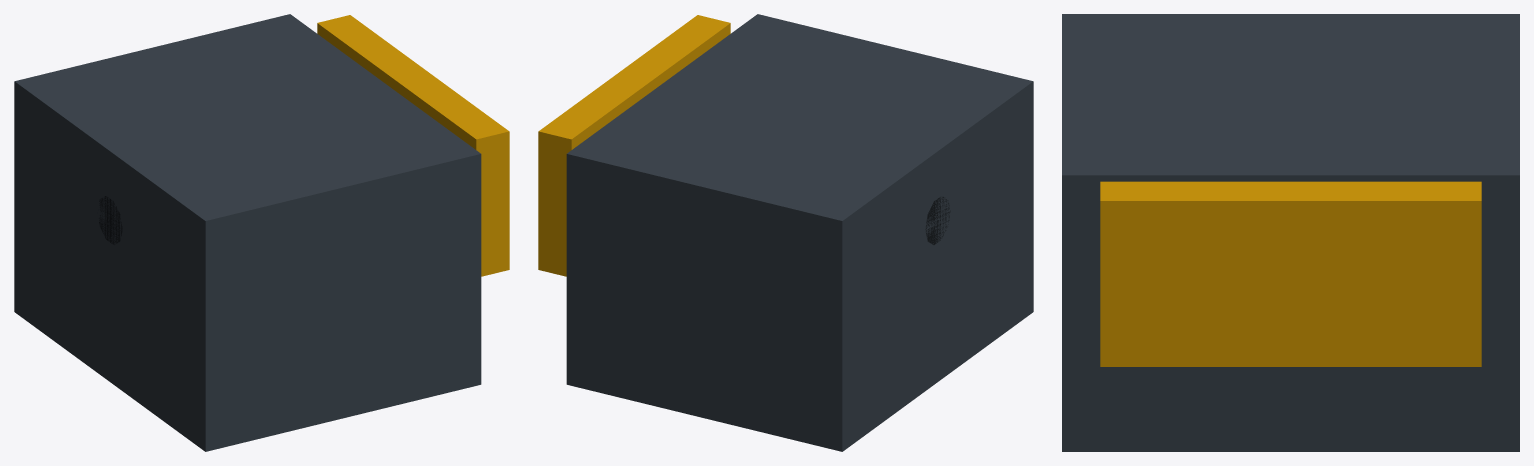
The picture shows the model from 3 angles, left to right: view 1: azimuth 30°, elevation 25°; view 2: azimuth 150°, elevation 25°; view 3: azimuth 270°, elevation 25°; orthographic projection. The views are drawn at different scales.
Parts seen in each view (by area): view 1: body, pusher, piston; view 2: body, pusher, piston; view 3: body, pusher.
Boxes of the visible parts, x1,y1,x2,y2 form: body: (14,14,481,451); pusher: (317,15,509,276); piston: (99,196,122,244); body: (566,14,1033,451); pusher: (538,15,730,276); piston: (925,197,950,244); body: (1062,14,1519,451); pusher: (1100,181,1481,366).
Bounding box in the file's own units: 0.58 × 0.4 × 0.6.
